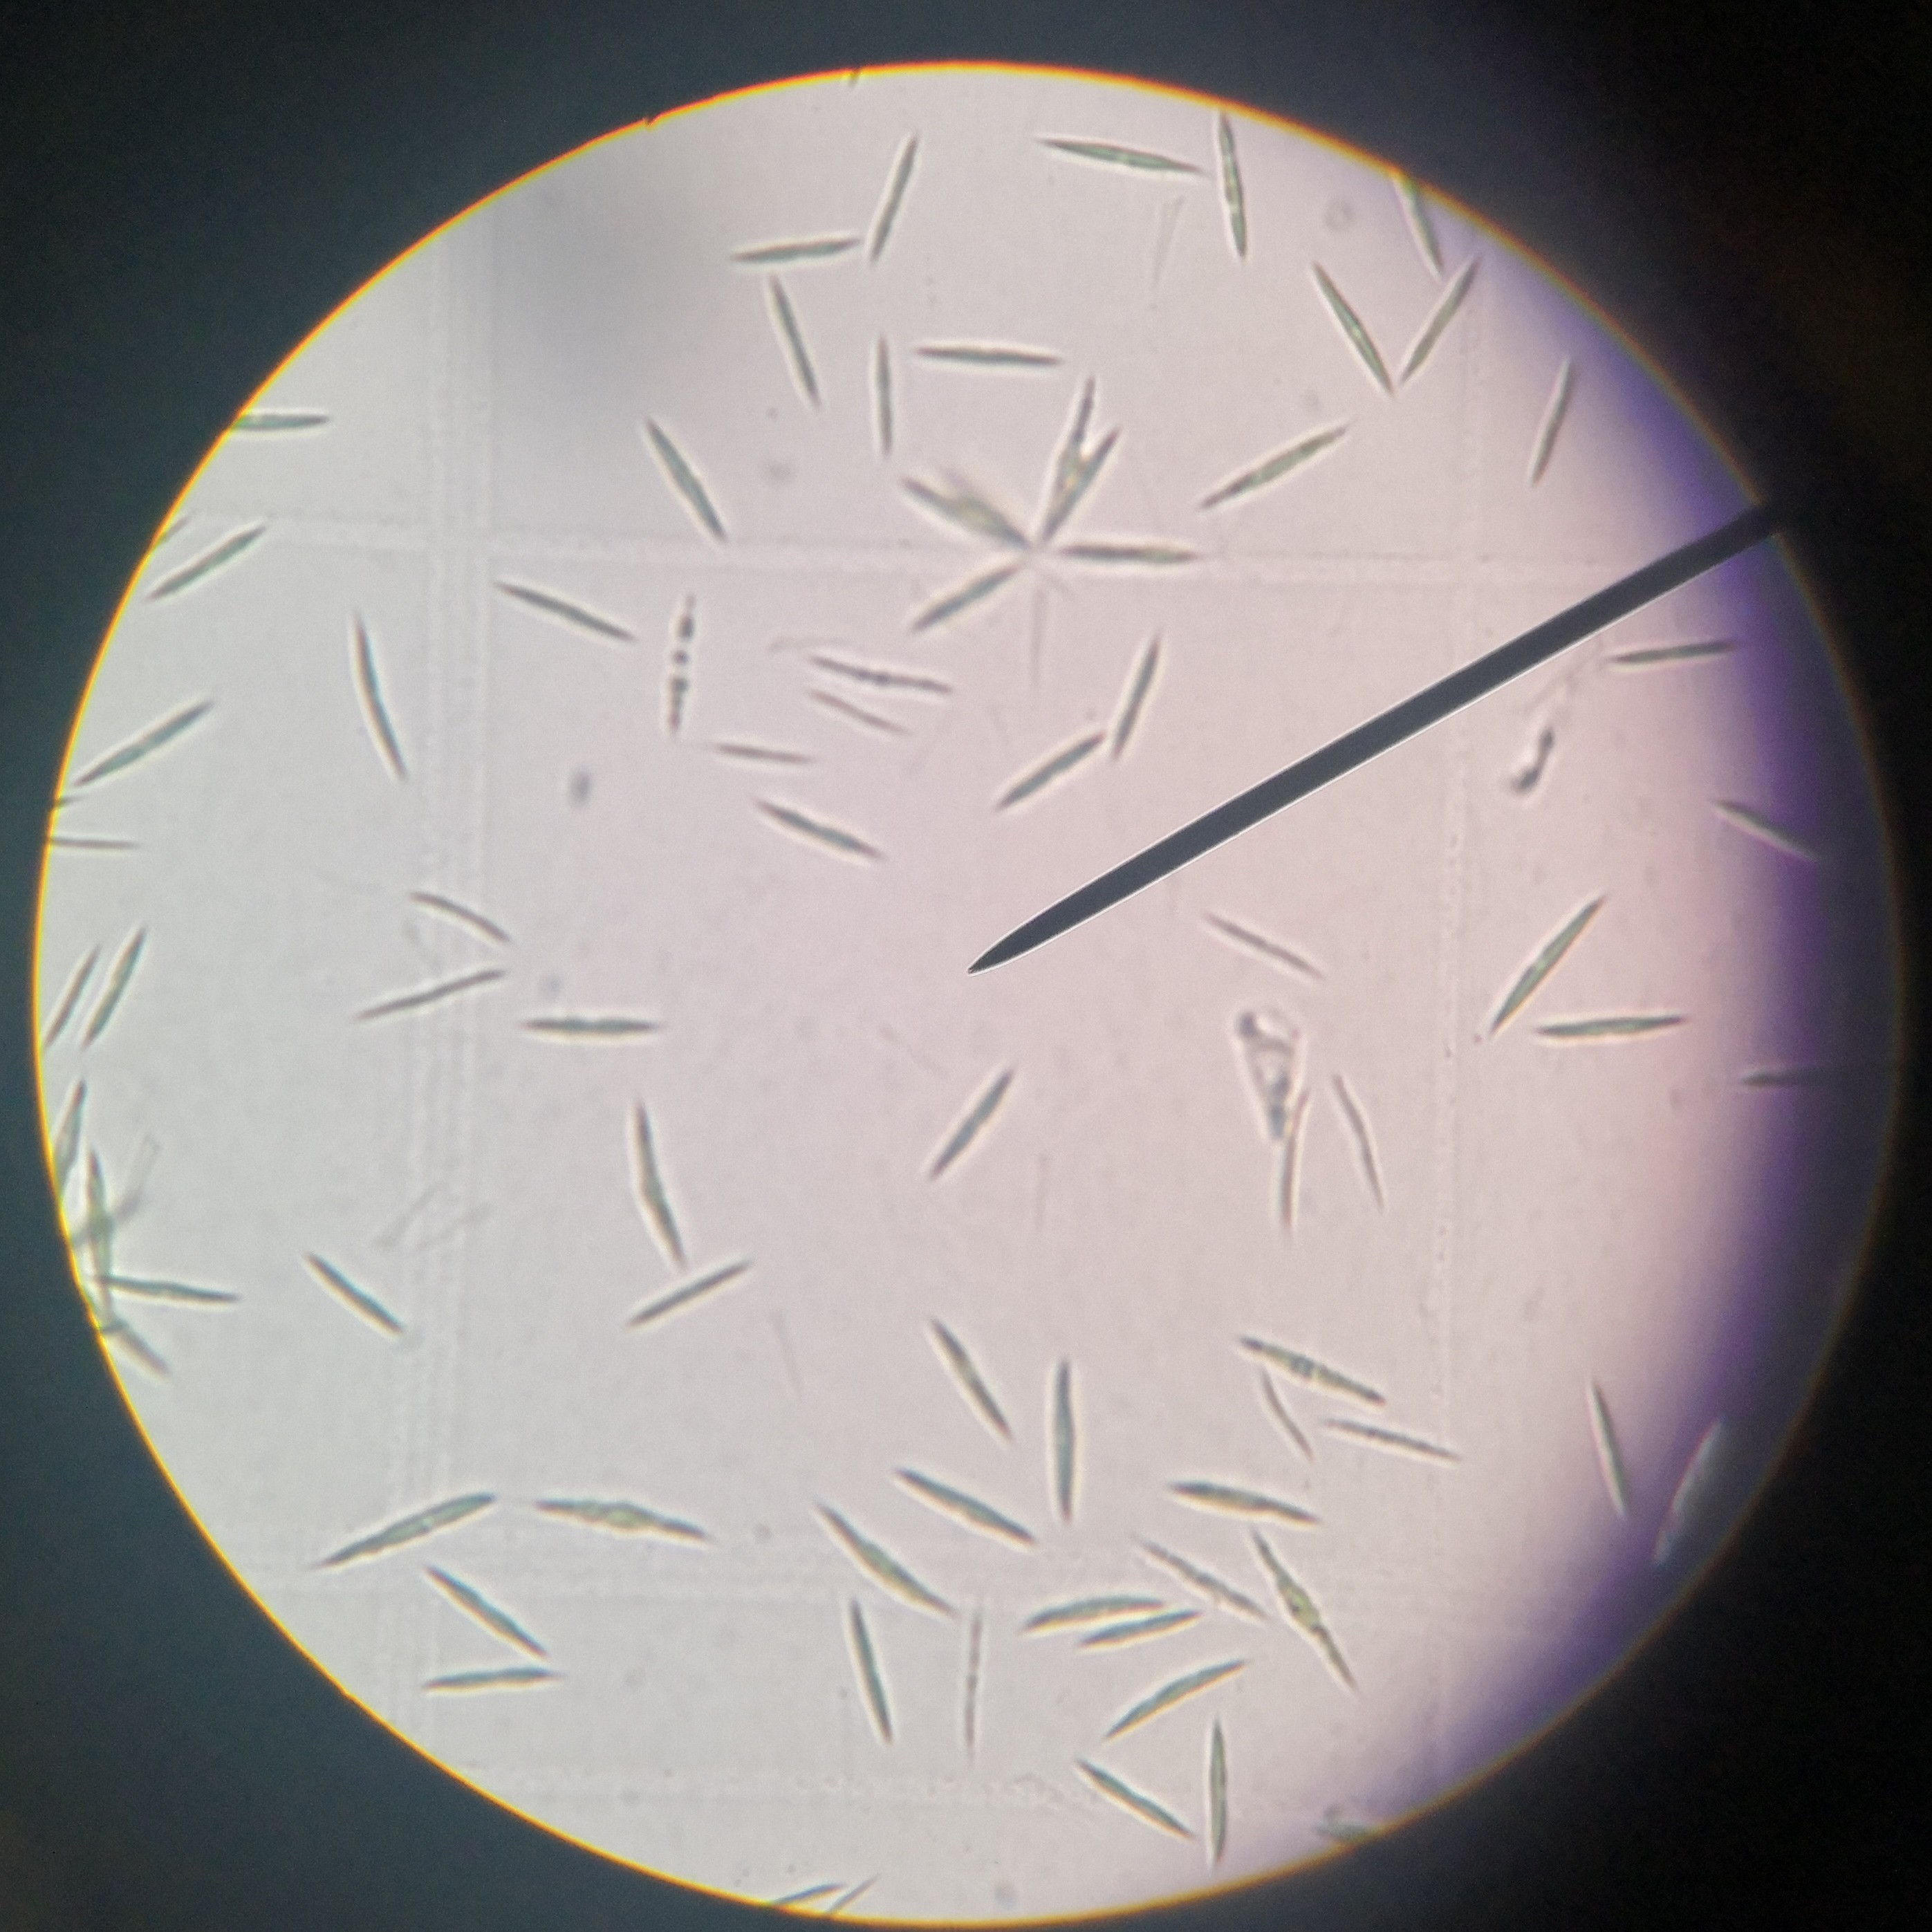Microalgae: (816, 1497, 950, 1624), (1254, 1536, 1355, 1690), (129, 525, 283, 623), (57, 697, 212, 791), (1491, 893, 1601, 1026), (1200, 414, 1339, 515), (888, 1468, 1039, 1559), (639, 419, 743, 545), (313, 1493, 506, 1560), (918, 1063, 1024, 1185), (991, 711, 1108, 816), (522, 1493, 718, 1552), (929, 1299, 1008, 1437), (492, 571, 649, 640), (1106, 1663, 1246, 1736), (306, 1249, 407, 1346), (1131, 1527, 1256, 1605), (1237, 1322, 1378, 1391), (421, 1571, 543, 1651), (350, 605, 403, 787), (745, 801, 883, 870), (1166, 1460, 1311, 1525), (1067, 1764, 1194, 1838), (893, 471, 1019, 545), (890, 559, 1012, 635), (1713, 793, 1835, 869), (626, 1244, 745, 1318), (842, 1605, 897, 1760), (1318, 272, 1385, 396), (1208, 911, 1327, 980), (87, 916, 149, 1047), (352, 968, 497, 1023), (757, 271, 816, 407), (1537, 1003, 1677, 1060), (1318, 1419, 1468, 1470), (1113, 626, 1177, 745), (1582, 1366, 1629, 1523), (950, 1599, 994, 1769), (1053, 386, 1099, 540), (1516, 347, 1566, 488), (633, 1106, 679, 1254), (80, 1154, 127, 1290), (412, 886, 513, 950), (1741, 1039, 1838, 1104), (83, 1304, 172, 1375), (906, 334, 1065, 373), (419, 1660, 571, 1700), (35, 1086, 90, 1198), (209, 403, 345, 448), (1070, 1615, 1194, 1661), (1010, 1592, 1171, 1628), (1336, 1067, 1375, 1210), (1200, 1702, 1233, 1867), (1414, 262, 1465, 368), (1049, 1346, 1079, 1527), (667, 593, 704, 736), (1265, 1095, 1302, 1235), (44, 943, 96, 1042), (1058, 533, 1203, 566), (515, 1014, 667, 1046), (754, 1867, 839, 1921), (1603, 639, 1753, 669), (87, 1270, 262, 1295), (814, 1870, 883, 1932), (862, 338, 902, 442), (741, 228, 846, 269), (865, 209, 909, 283), (1219, 205, 1256, 267), (46, 832, 152, 849), (1028, 1313, 1037, 1325)
